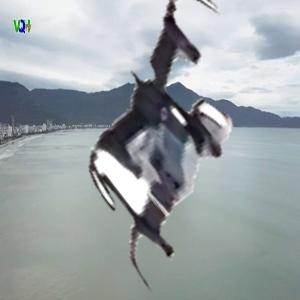drone: (47, 6, 293, 252)
